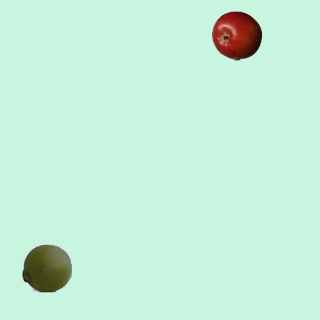Apple Braeburn: (211, 10, 261, 60)
Grape White 4: (21, 242, 71, 292)
